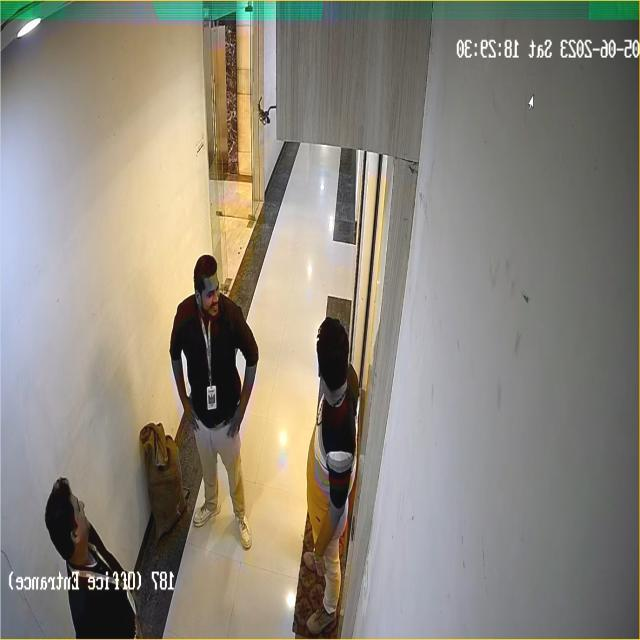gunny_bag: (132, 414, 191, 548)
